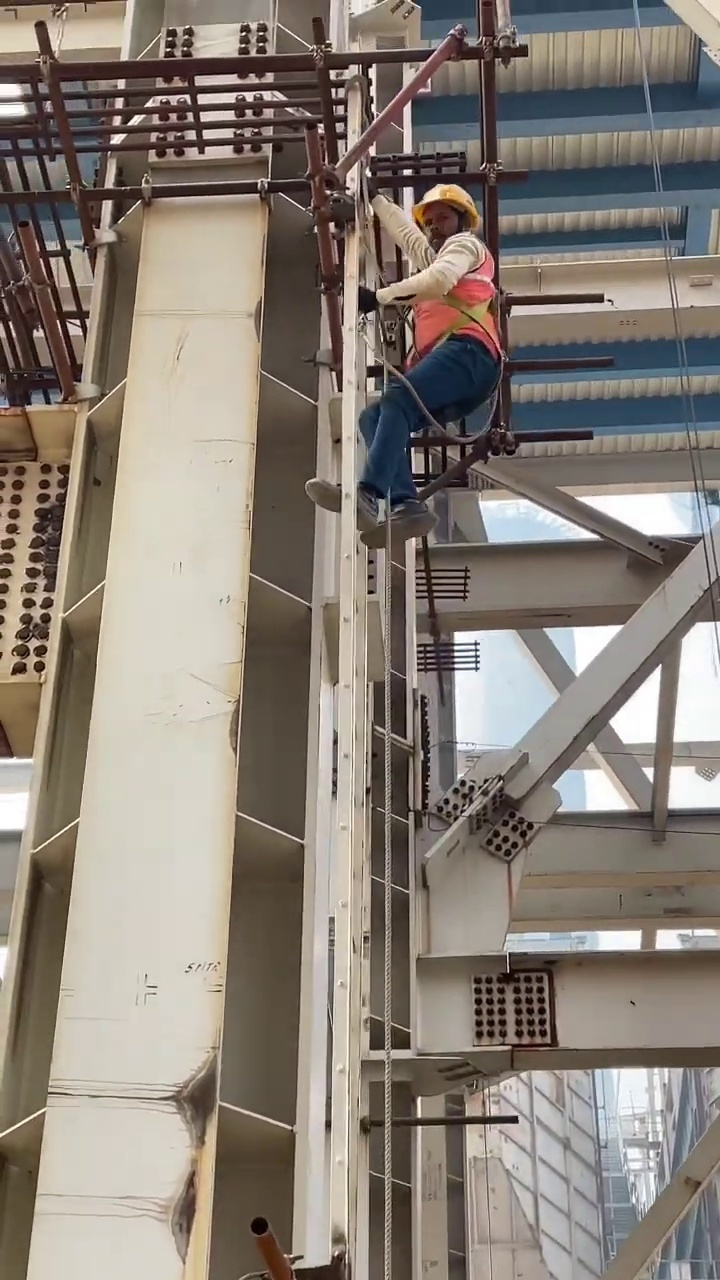Helmet: (415, 183, 480, 219)
Person: (308, 181, 508, 551)
Safety_Harness: (388, 238, 506, 437)
Safety_shoes: (305, 475, 382, 532), (360, 500, 439, 550)
